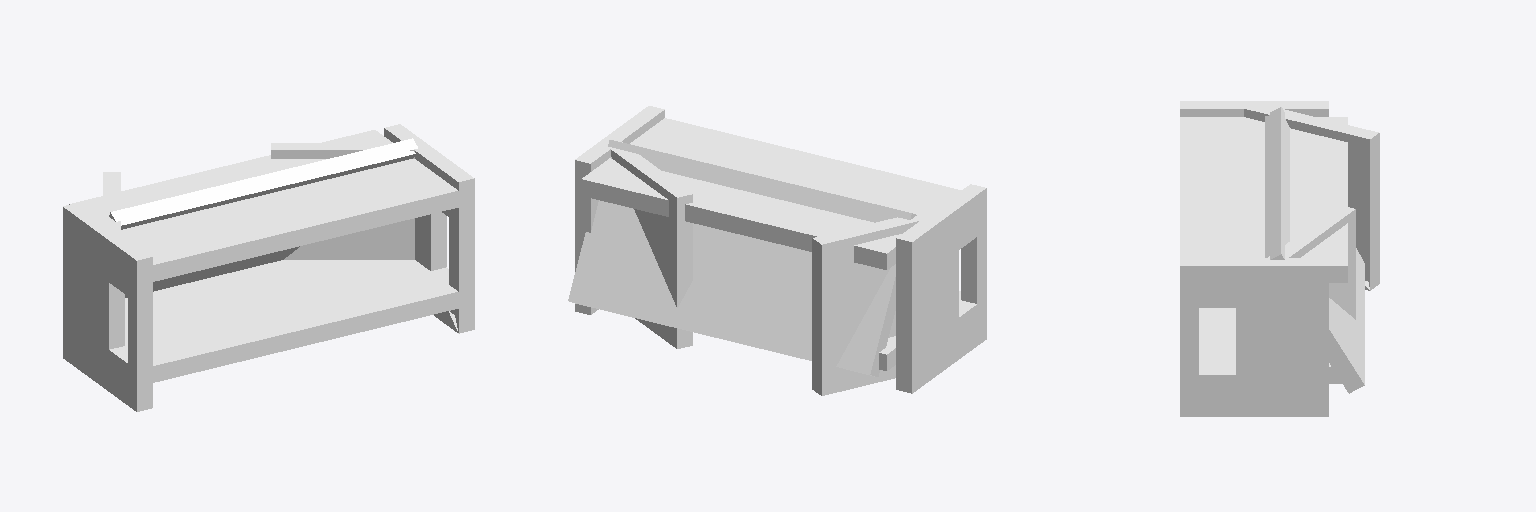
File: CaveInside.obj
The picture shows the model from 3 angles: view 1: azimuth 30°, elevation 25°; view 2: azimuth 150°, elevation 25°; view 3: azimuth 270°, elevation 25°; orthographic projection.
Visible parts, largest first — view 1: CaveInside; view 2: CaveInside; view 3: CaveInside.
Boxes of the visible parts, x1=… form: CaveInside: x1=63, y1=124, x2=474, y2=411; CaveInside: x1=568, y1=106, x2=986, y2=395; CaveInside: x1=1180, y1=101, x2=1379, y2=416.
Bounding box in the file's own units: 42 × 18.69 × 21.43.